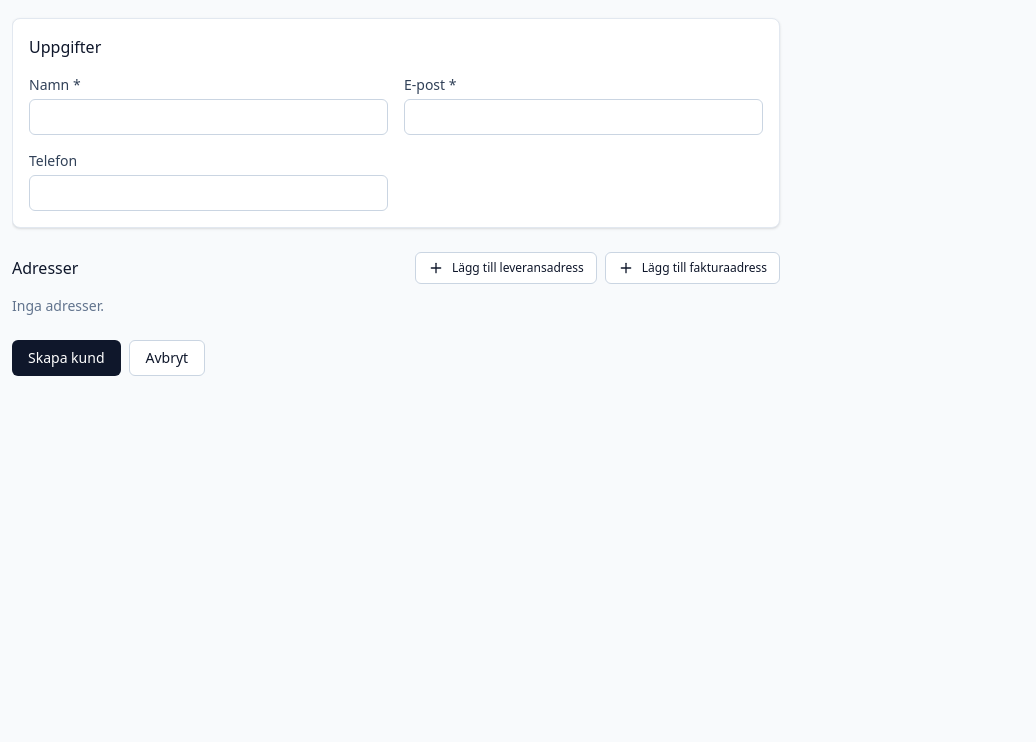
Test: the customer form › shows what the API refused next to the field it names
The width and height of the screenshot is (1036, 742).
Click the button "Lägg till leveransadress". click: (506, 268)
box: [415,252,597,284]
(page scrolled)
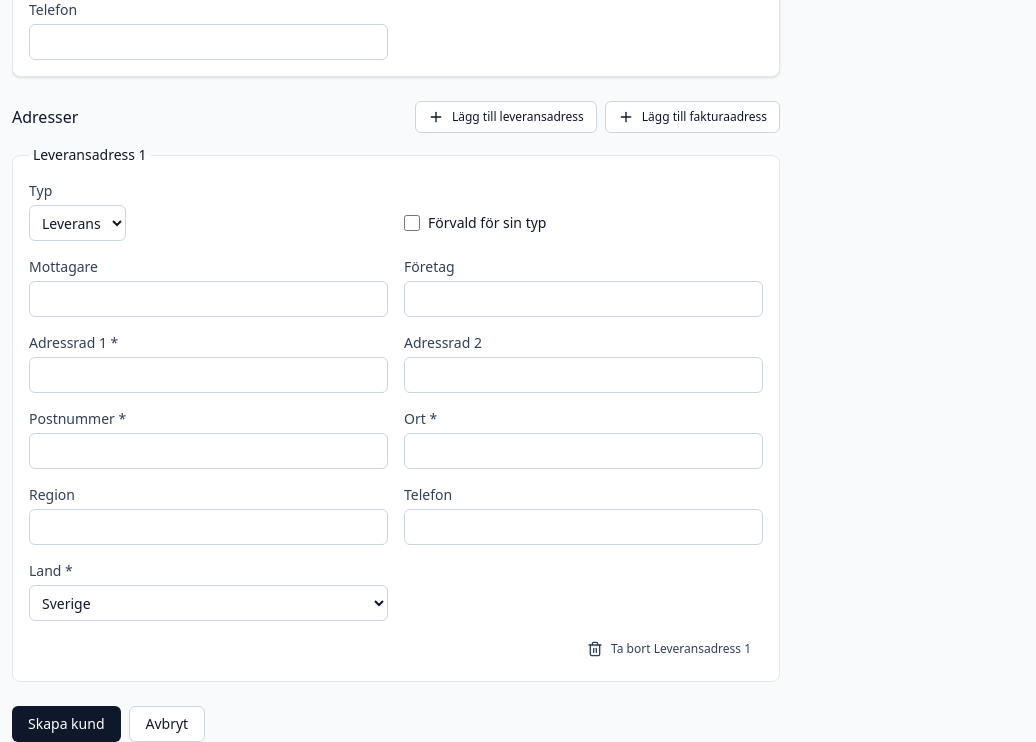
Click the button "Skapa kund". click: (66, 724)
box: [12,706,120,741]
(page scrolled)
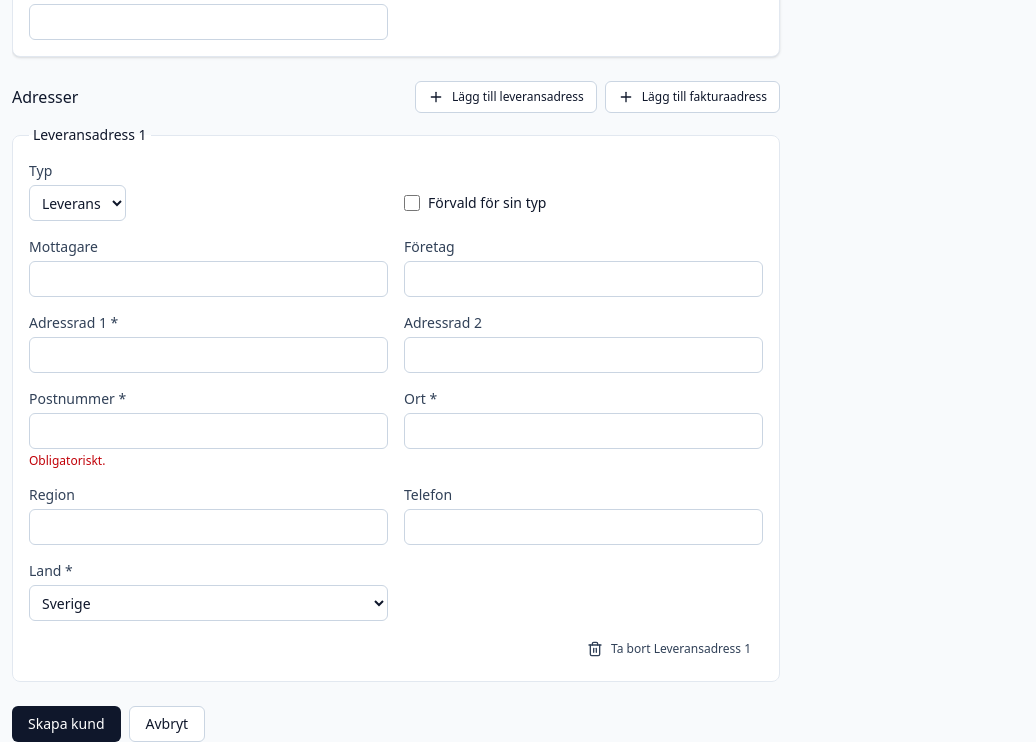
Now the text "Obligatoriskt." is shown, box [29,452,105,469]
